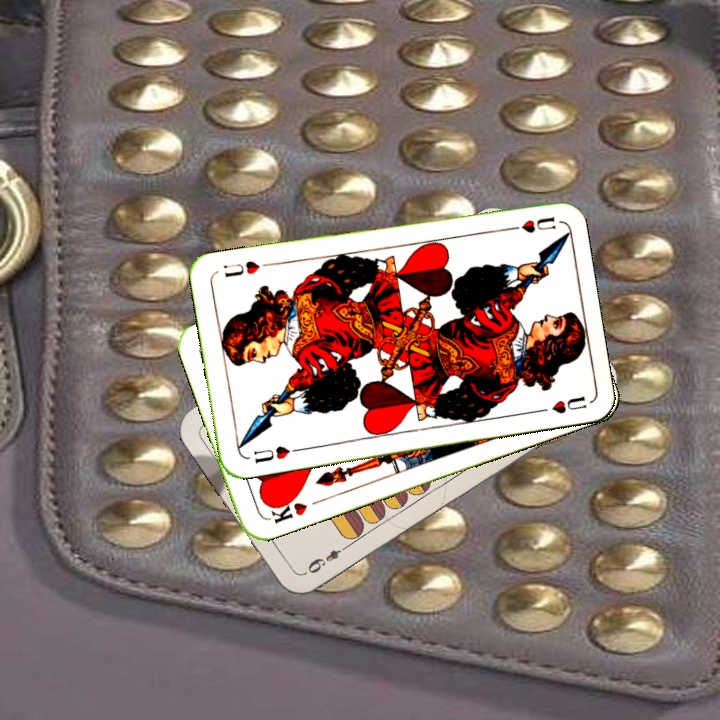E9: (300, 539, 353, 577)
HK: (264, 492, 310, 526)
HU: (500, 212, 558, 236), (249, 442, 303, 466)
